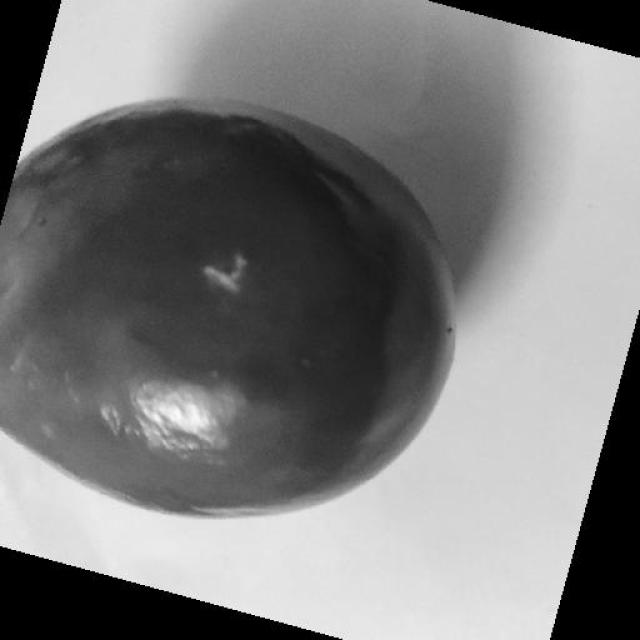Stale_tomato: (0, 141, 532, 503)
